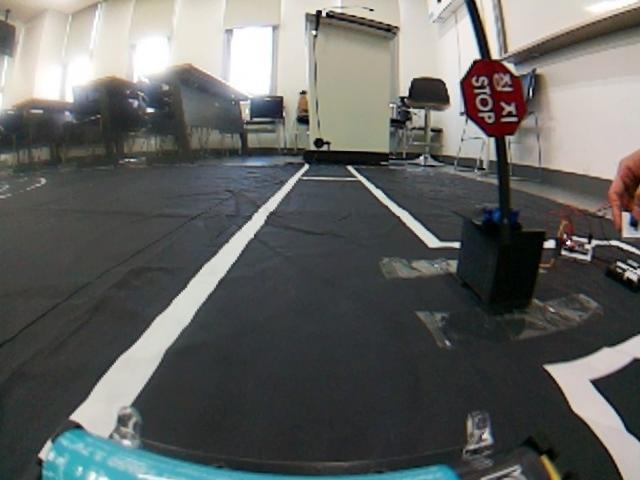sign_stop: (458, 56, 528, 140)
straight: (5, 203, 640, 476)
